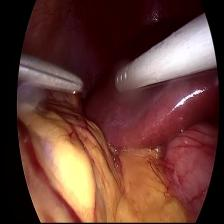Grasper: (17, 51, 86, 99)
Irrigator: (112, 55, 141, 100)
